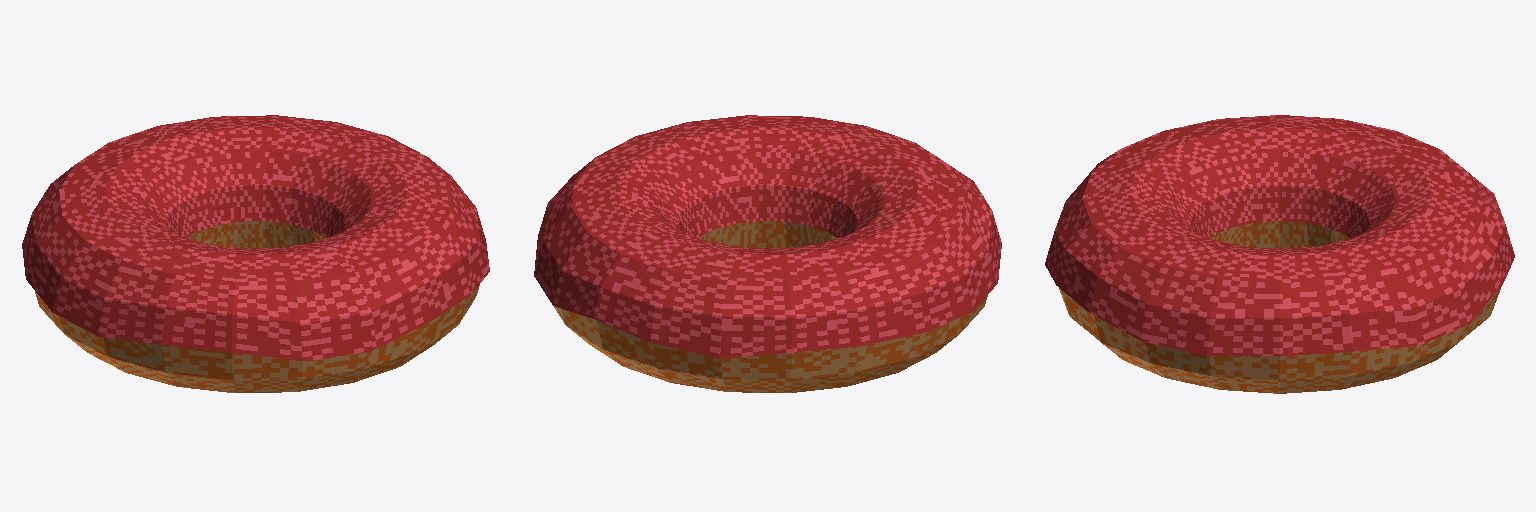
3 views of the same model, side by side, from view 1: azimuth 30°, elevation 25°; view 2: azimuth 150°, elevation 25°; view 3: azimuth 270°, elevation 25° (orthographic).
Parts seen in each view (by area): view 1: doughnut_ps_baked; view 2: doughnut_ps_baked; view 3: doughnut_ps_baked.
Boxes of the visible parts, x1=… form: doughnut_ps_baked: x1=22, y1=115, x2=489, y2=392; doughnut_ps_baked: x1=534, y1=115, x2=1001, y2=392; doughnut_ps_baked: x1=1045, y1=115, x2=1514, y2=393.
Size of the model in its own units: 1.28 by 0.3887 by 1.28.
1 materials, 1 textured.